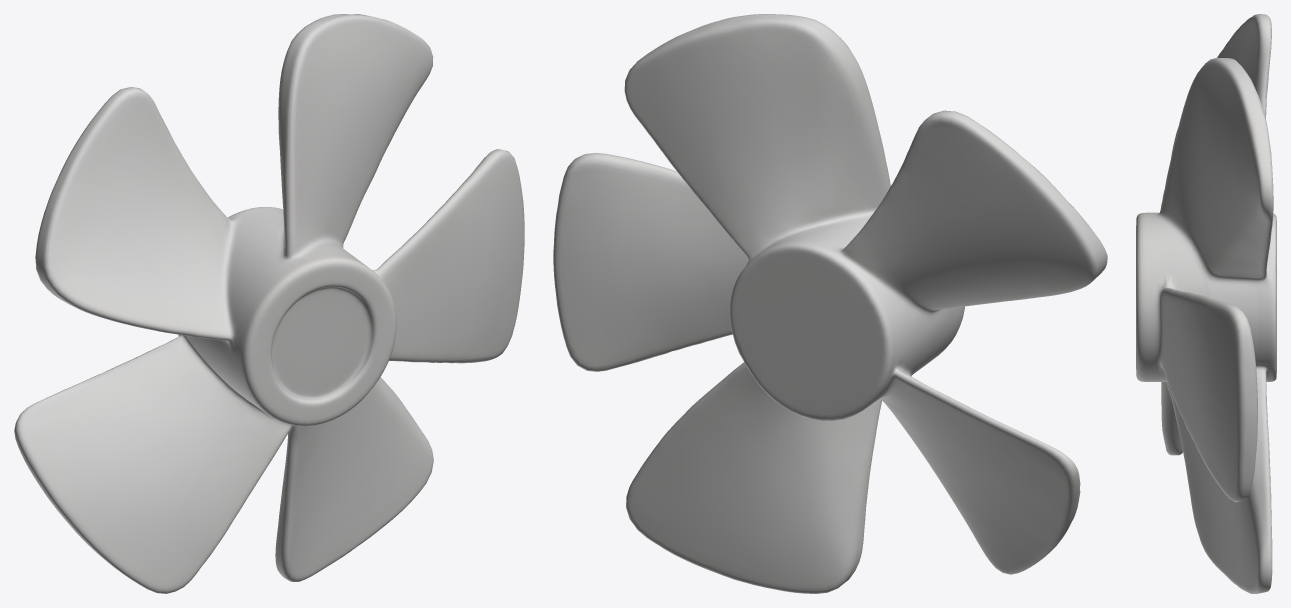
The model's file is base_basic_pbr.fbx.
The picture shows the model from 3 angles, left to right: view 1: azimuth 30°, elevation 25°; view 2: azimuth 150°, elevation 25°; view 3: azimuth 270°, elevation 25°; orthographic projection. The views are drawn at different scales.
Visible parts, largest first — view 1: model; view 2: model; view 3: model.
Boxes of the visible parts, bbox=[...] form: model: bbox=[14, 14, 524, 593]; model: bbox=[553, 14, 1107, 593]; model: bbox=[1136, 14, 1276, 593].
Bounding box in the file's own units: 184 × 191 × 47.5.
Materials: 1 (1 with a texture image).
